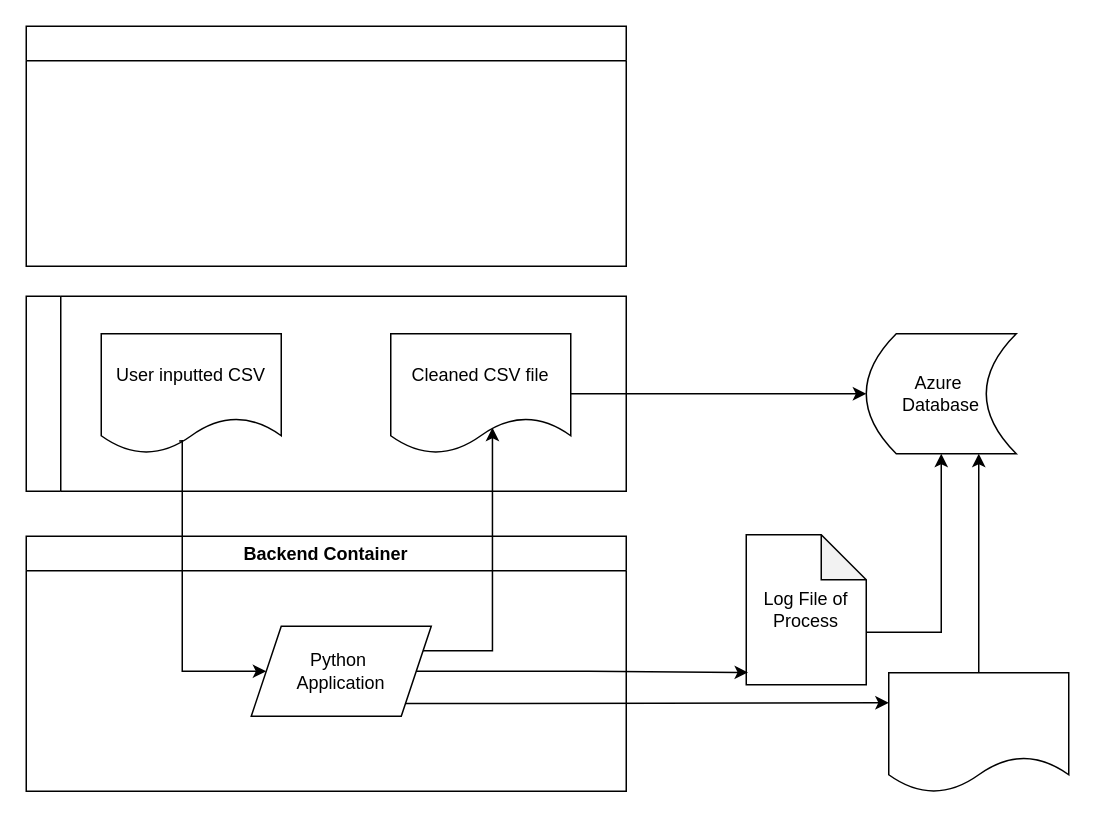
The diagram is 1095 pixels wide and 819 high, and some of its shapes have lost their labels. The box of each missing label's shape, as (x1, y1, x2, y2) in pixels:
DataStore Volume: (25, 295, 626, 491)
Frontend Container: (25, 25, 626, 266)
Quarantine CSV file: (887, 671, 1069, 793)
